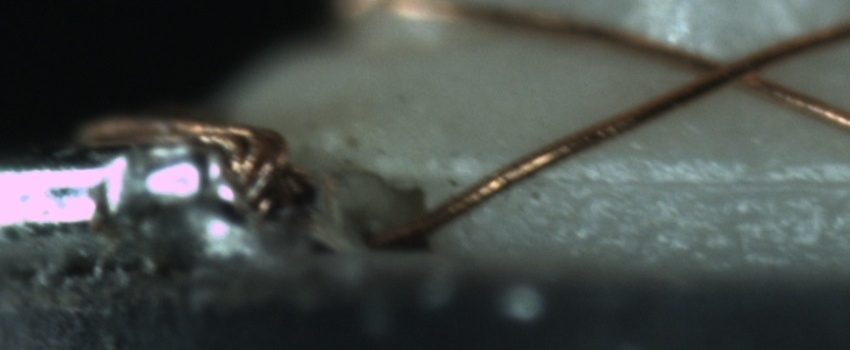CL: (684, 41, 783, 100)
DL: (442, 150, 849, 214)
TE: (67, 115, 298, 213)
